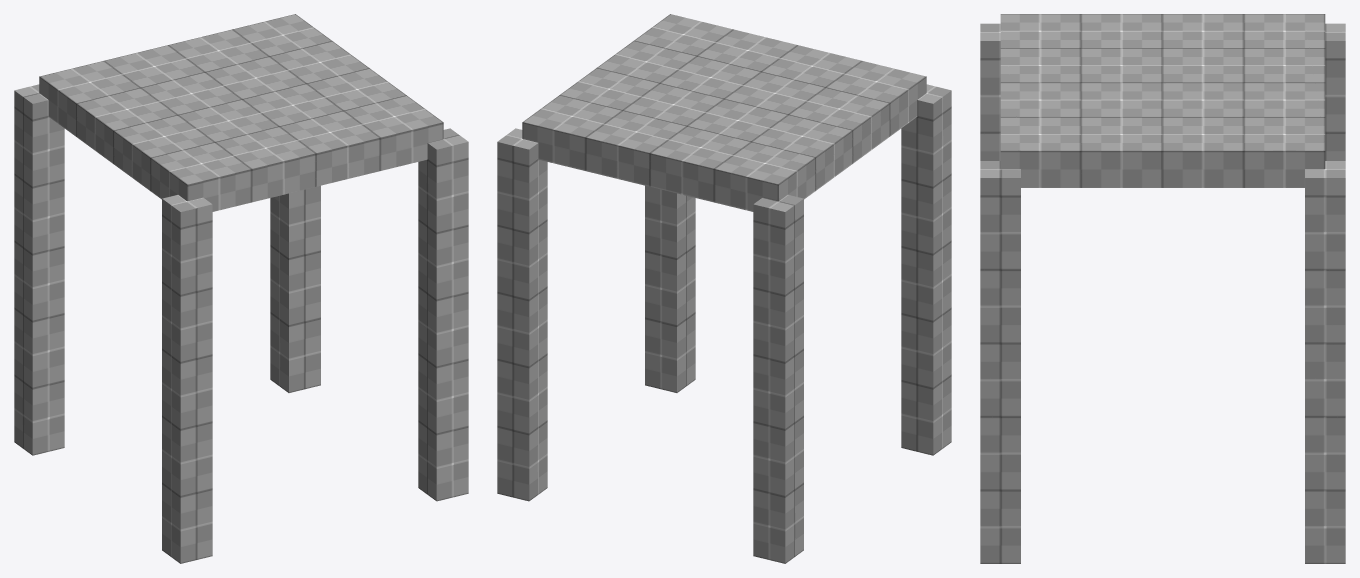
The model's file is foundation-stilts.gltf.
3 views of the same model, side by side, from view 1: azimuth 30°, elevation 25°; view 2: azimuth 150°, elevation 25°; view 3: azimuth 270°, elevation 25° (orthographic). The views are drawn at different scales.
Parts seen in each view (by area): view 1: foundation_stilts; view 2: foundation_stilts; view 3: foundation_stilts.
Boxes of the visible parts, x1,y1,x2,y2 form: foundation_stilts: (14, 14, 468, 563); foundation_stilts: (497, 14, 951, 563); foundation_stilts: (980, 14, 1345, 563).
Size of what is drawn, in the model's own units: 4.5 by 5.5 by 4.5.
